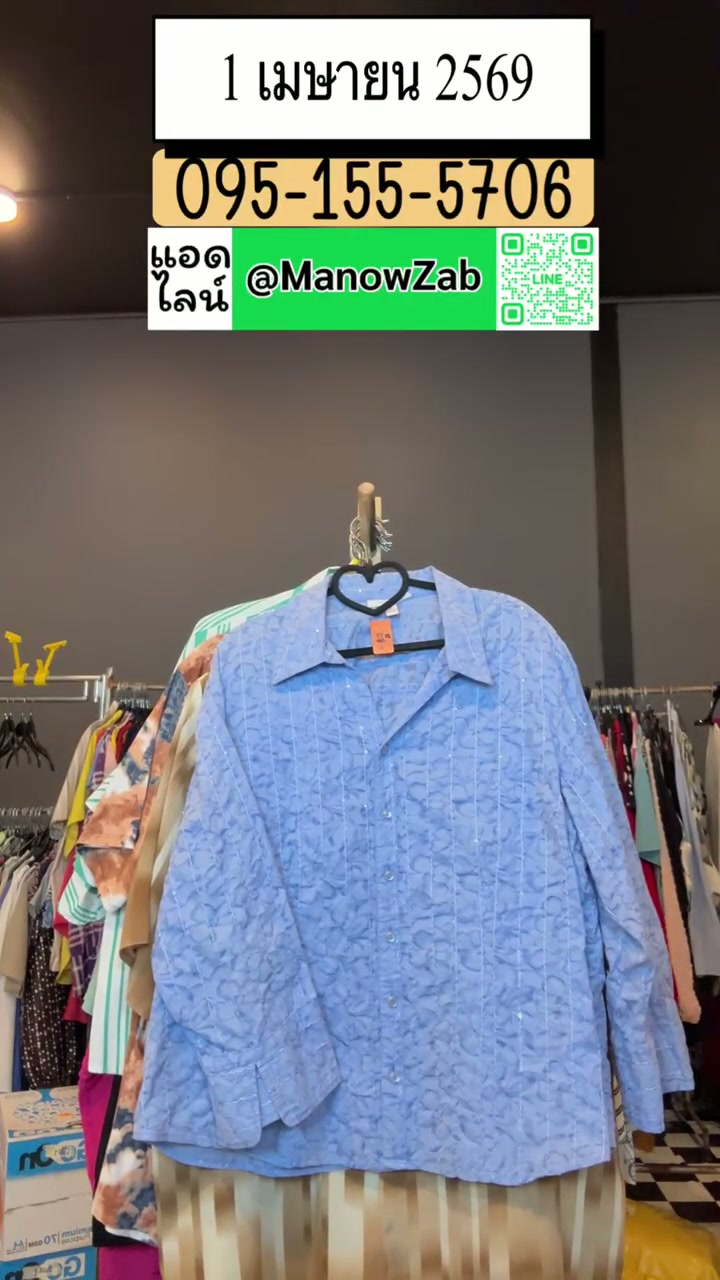display_shirt: (136, 567, 691, 1186)
